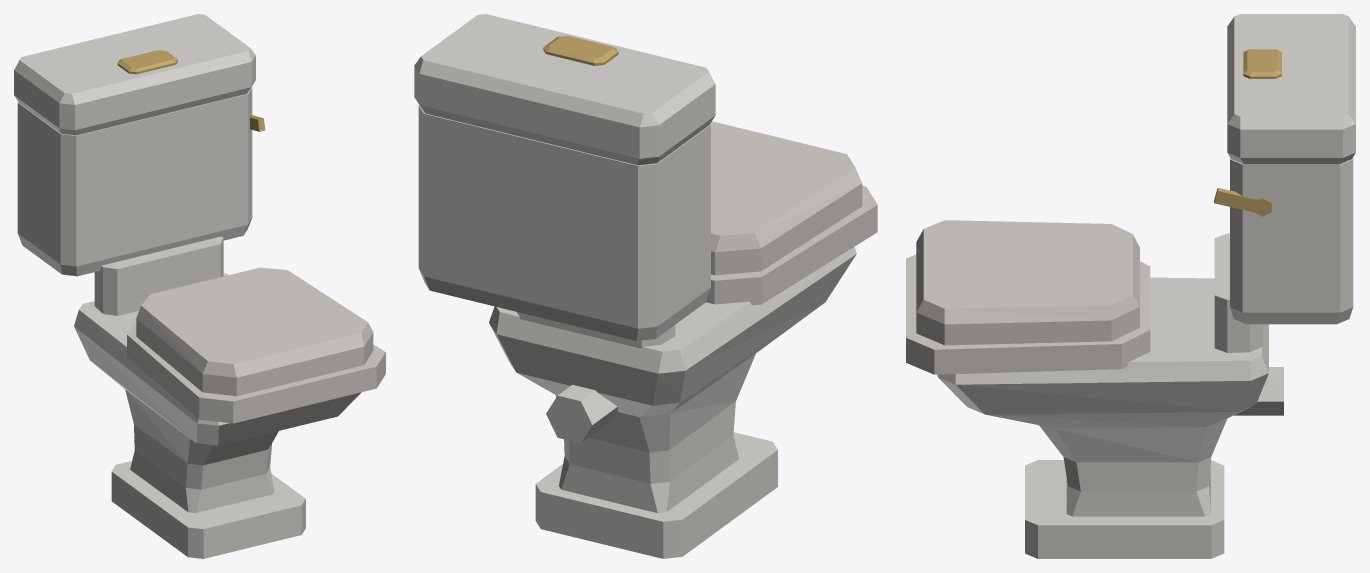
File: home_toilet.glb
The picture shows the model from 3 angles, left to right: view 1: azimuth 30°, elevation 25°; view 2: azimuth 150°, elevation 25°; view 3: azimuth 270°, elevation 25°; orthographic projection. The views are drawn at different scales.
Parts seen in each view (by area): view 1: toilet, seat, cistern-lid; view 2: toilet, cistern-lid, seat; view 3: toilet, seat, cistern-lid.
Boxes of the visible parts, box(x1,y1,x2,y2) form: toilet: box(17, 87, 361, 558); seat: box(127, 267, 385, 423); cistern-lid: box(14, 14, 255, 135); toilet: box(418, 105, 856, 558); cistern-lid: box(414, 14, 715, 165); seat: box(705, 121, 877, 305); toilet: box(937, 157, 1353, 558); seat: box(906, 220, 1150, 374); cistern-lid: box(1227, 14, 1355, 164).
Size of the model in its own units: 0.4 by 0.8 by 0.7.
